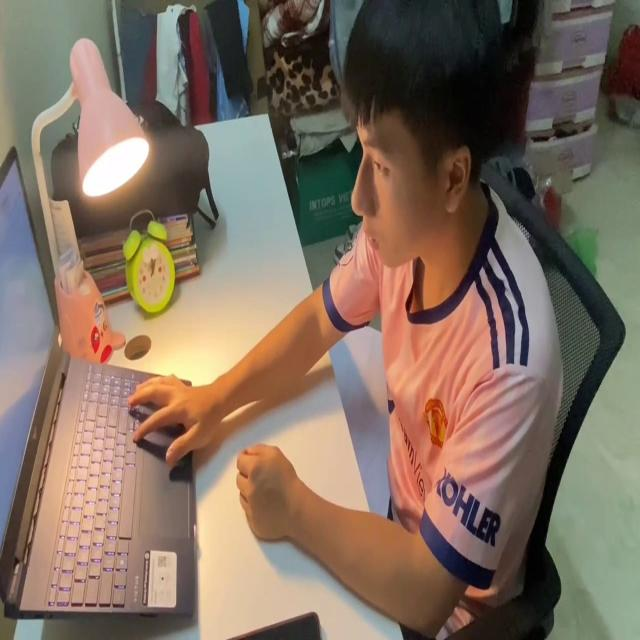book: (324, 304, 394, 526)
laptop: (0, 136, 198, 626)
phone: (227, 601, 320, 640)
student: (127, 0, 563, 639)
